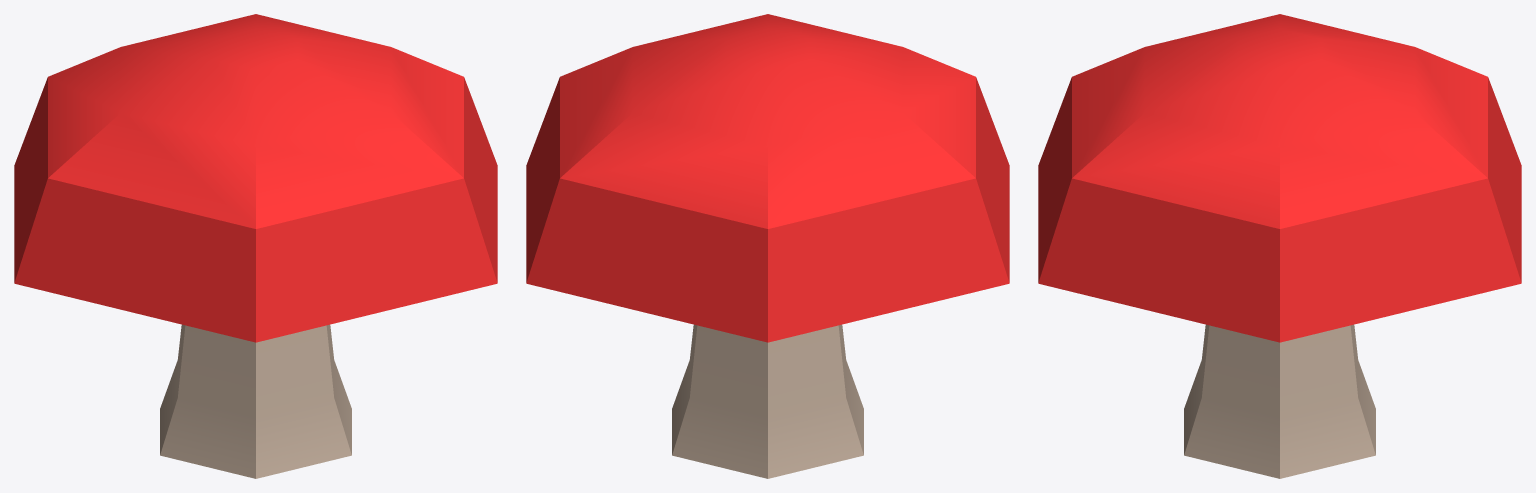
The model's file is Mushroom_Red_03.fbx.
3 views of the same model, side by side, from view 1: azimuth 30°, elevation 25°; view 2: azimuth 150°, elevation 25°; view 3: azimuth 270°, elevation 25° (orthographic).
Visible parts, largest first — view 1: Mushroom_Red_03; view 2: Mushroom_Red_03; view 3: Mushroom_Red_03.
Boxes of the visible parts, <box> form: Mushroom_Red_03: <box>14,14,497,478</box>; Mushroom_Red_03: <box>526,14,1009,478</box>; Mushroom_Red_03: <box>1038,14,1521,478</box>.
Size of the model in its own units: 10.49 by 7.93 by 9.08.
